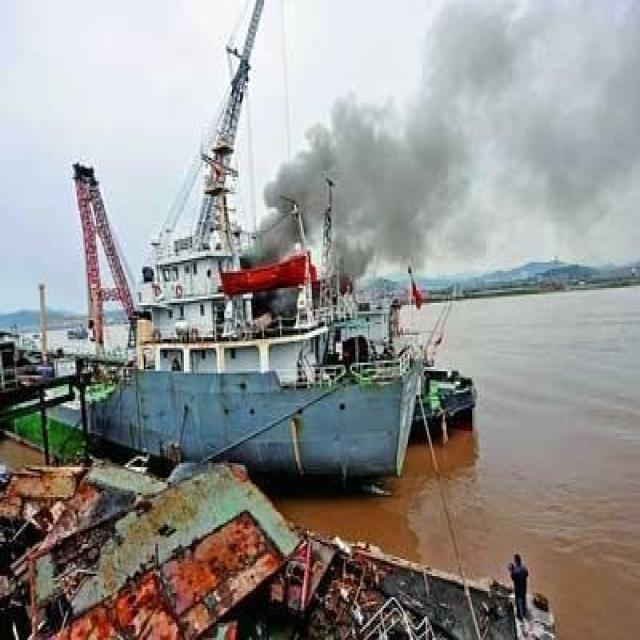Smoke: (240, 2, 640, 286)
